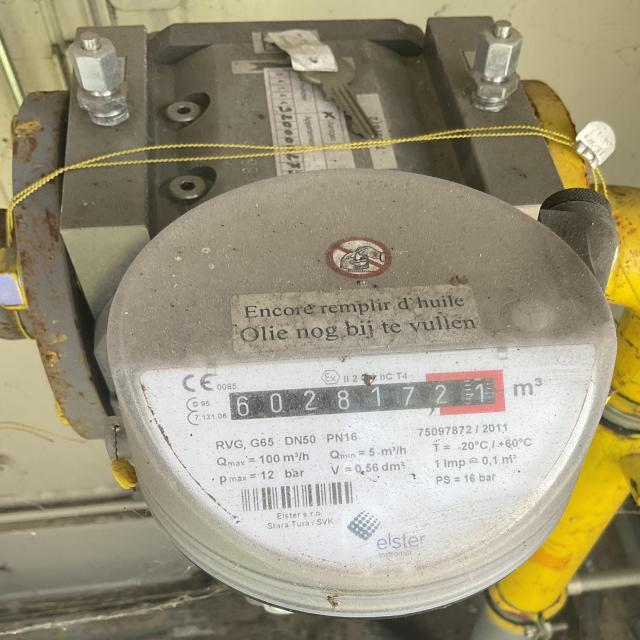gaz_meter: (117, 166, 611, 591)
indication: (230, 375, 497, 419)
